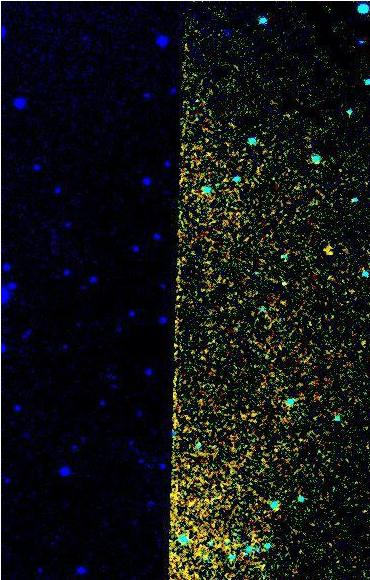star: (316, 237, 346, 267)
